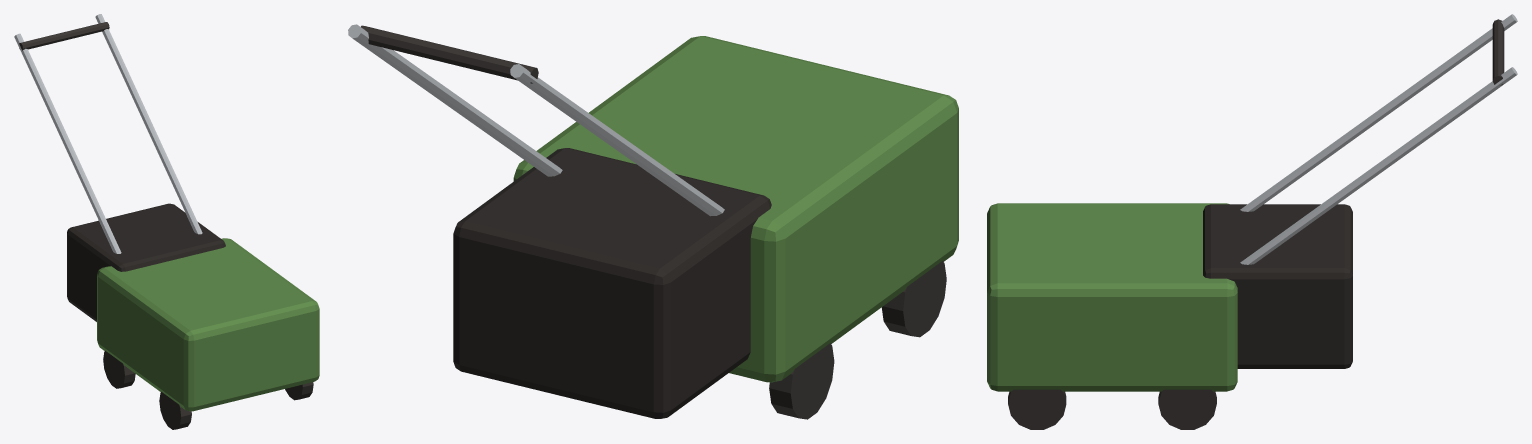
File: hh_lawnmower.glb
3 renders of one model, left to right at view 1: azimuth 30°, elevation 25°; view 2: azimuth 150°, elevation 25°; view 3: azimuth 270°, elevation 25°, orthographic. The views are drawn at different scales.
Visible parts, largest first — view 1: deck, grass_box, handle_bar, handle_bar.001, grip, wheel, wheel.001, wheel.002; view 2: deck, grass_box, handle_bar, handle_bar.001, wheel.001, wheel, grip; view 3: deck, grass_box, handle_bar.001, handle_bar, wheel.003, wheel.002, grip.
Part boxes in pixels (x1,y1,x2,y2): deck: [97, 238, 319, 411]; grass_box: [67, 203, 225, 321]; handle_bar: [14, 33, 121, 253]; handle_bar.001: [95, 14, 202, 234]; grip: [19, 22, 109, 50]; wheel: [159, 392, 191, 429]; wheel.001: [103, 350, 135, 388]; wheel.002: [285, 382, 313, 400]; deck: [513, 36, 958, 382]; grass_box: [453, 148, 771, 418]; handle_bar: [510, 64, 724, 216]; handle_bar.001: [348, 24, 562, 176]; wheel.001: [769, 343, 834, 419]; wheel: [881, 261, 946, 337]; grip: [361, 25, 538, 83]; deck: [987, 203, 1237, 391]; grass_box: [1203, 204, 1352, 368]; handle_bar.001: [1240, 67, 1517, 264]; handle_bar: [1240, 14, 1517, 211]; wheel.003: [1158, 389, 1216, 429]; wheel.002: [1008, 389, 1066, 429]; grip: [1492, 19, 1504, 85].
Size of the model in its own units: 0.5 by 0.9133 by 1.27.
